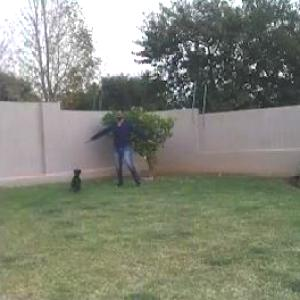land: (92, 93, 170, 199)
